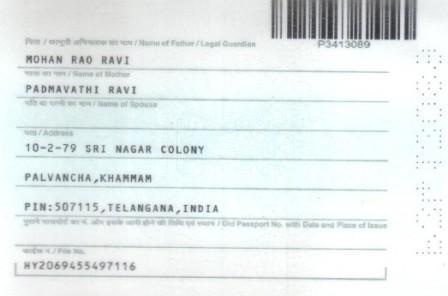File_no: (18, 258, 140, 273)
address: (19, 139, 239, 216)
father_name: (23, 49, 133, 66)
mother_name: (19, 79, 139, 98)
passport_no: (315, 38, 375, 52)
